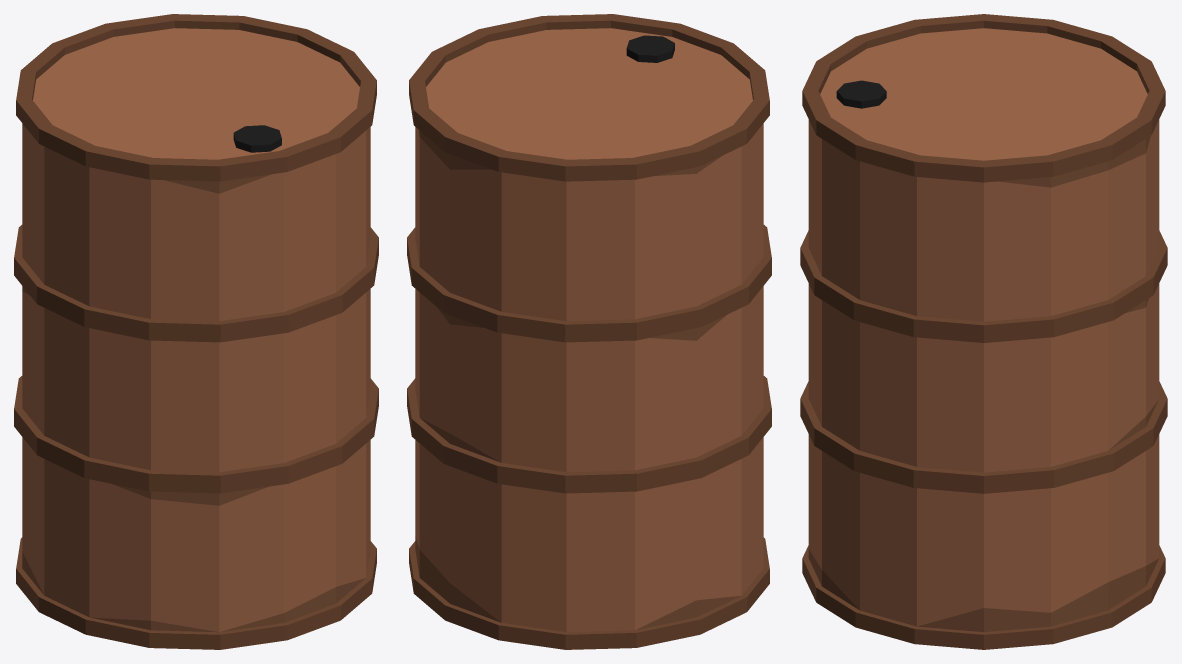
Rendered from SM_Props_Barrel_05.glb.
3 views of the same model, side by side, from view 1: azimuth 30°, elevation 25°; view 2: azimuth 150°, elevation 25°; view 3: azimuth 270°, elevation 25° (orthographic).
Parts seen in each view (by area): view 1: SM_Props_Barrel_05; view 2: SM_Props_Barrel_05; view 3: SM_Props_Barrel_05.
Part boxes in pixels (<box>): SM_Props_Barrel_05: <box>14,14,378,649</box>; SM_Props_Barrel_05: <box>407,14,771,649</box>; SM_Props_Barrel_05: <box>800,14,1167,649</box>.
Size of the model in its own units: 0.607 by 0.88 by 0.607.
Materials: 1 (1 with a texture image).
